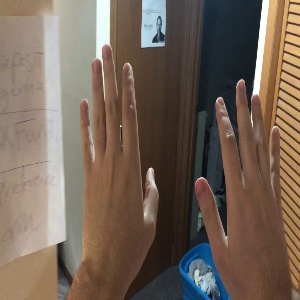hand: (194, 78, 293, 290), (80, 45, 159, 256)
